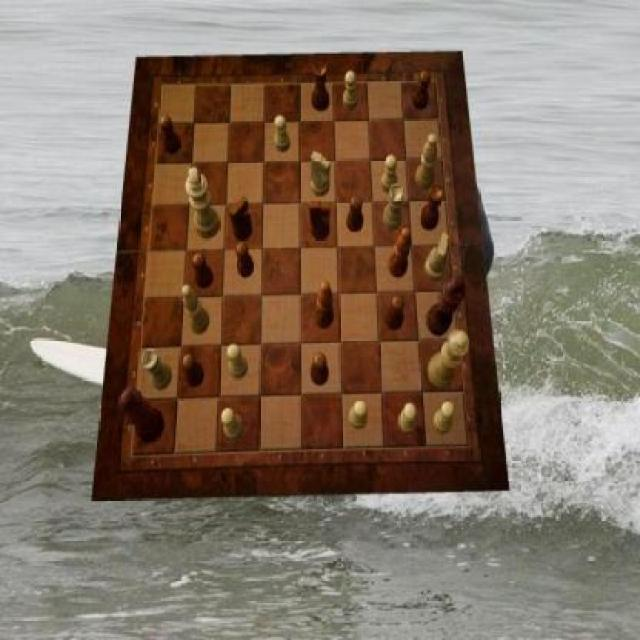bishop: (388, 228, 410, 278), (314, 280, 334, 329)
black-bishop: (426, 277, 466, 337)
black-king: (231, 196, 254, 242), (309, 200, 330, 242)
black-knight: (181, 352, 204, 387), (160, 117, 181, 155), (192, 252, 213, 288), (386, 296, 406, 332), (414, 71, 431, 111), (236, 242, 254, 278), (310, 354, 328, 388), (348, 196, 364, 232)
black-pawn: (118, 388, 166, 444)
black-queen: (420, 183, 443, 229), (312, 63, 330, 112)
black-rook: (183, 284, 211, 336), (416, 134, 438, 190)
white-bishop: (185, 168, 220, 240)
white-king: (425, 234, 449, 283), (311, 152, 331, 198)
white-knight: (432, 402, 455, 436), (222, 408, 244, 442), (228, 345, 248, 379), (274, 115, 291, 153), (398, 403, 418, 435), (343, 71, 359, 111), (382, 155, 398, 194), (349, 402, 368, 429)
white-pawn: (428, 331, 470, 391)
white-queen: (142, 349, 172, 391), (383, 184, 403, 230)
